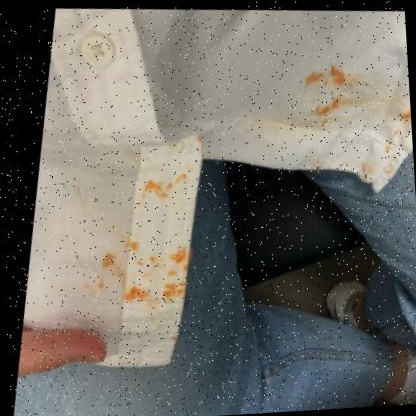kimchi: (120, 235, 186, 308), (140, 170, 190, 198), (302, 63, 352, 89), (316, 92, 354, 118), (385, 127, 407, 152), (97, 250, 120, 272), (88, 275, 109, 293), (315, 114, 332, 132), (359, 159, 376, 175), (400, 112, 412, 131), (384, 166, 398, 179), (194, 135, 206, 147), (314, 162, 327, 171), (334, 161, 345, 169)
